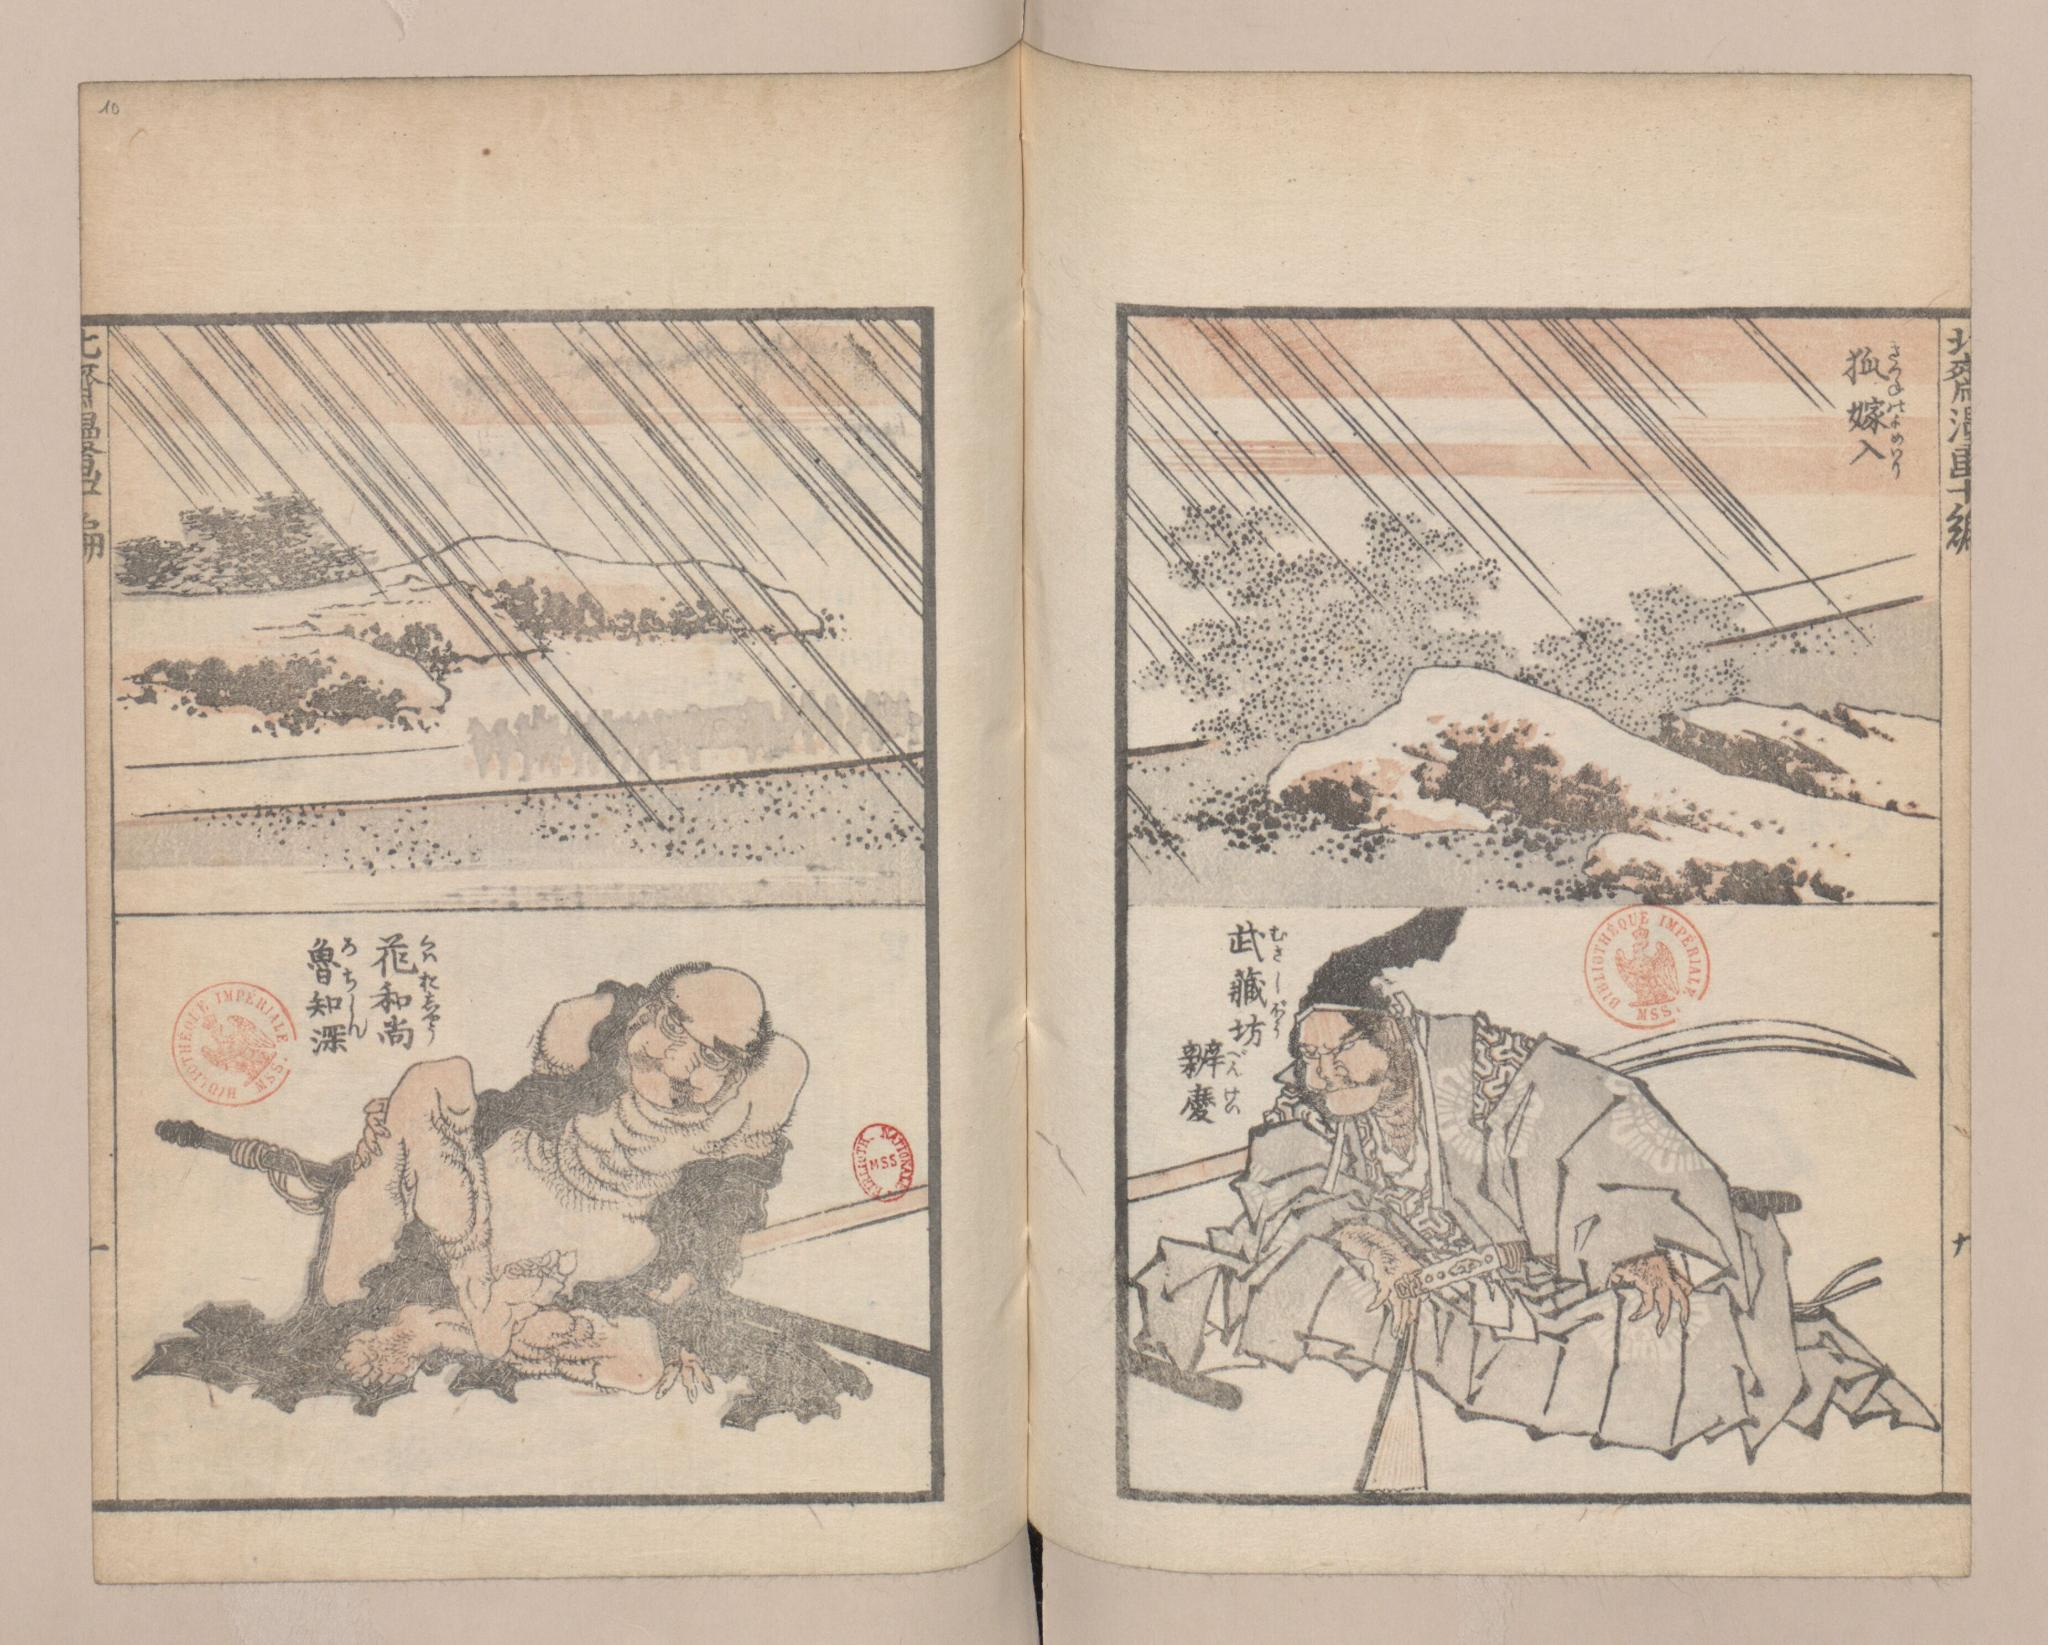MainZone-Character: (1840, 339, 1909, 398), (299, 1009, 373, 1061), (1173, 1083, 1251, 1131), (297, 930, 359, 990), (302, 963, 361, 1022), (1230, 999, 1294, 1051), (371, 928, 440, 975), (1173, 1039, 1247, 1079), (1848, 431, 1909, 480), (1224, 916, 1288, 962), (373, 1012, 443, 1052), (1224, 962, 1291, 1004), (369, 977, 447, 1012), (1845, 396, 1909, 430)
MainZone-Ruby: (1883, 341, 1905, 394), (418, 975, 441, 1012), (1224, 1046, 1247, 1081), (1220, 1086, 1246, 1118), (1266, 1002, 1288, 1036), (342, 967, 359, 1009), (1269, 923, 1288, 960), (1883, 399, 1905, 430), (1889, 433, 1904, 477), (420, 1014, 440, 1044), (418, 933, 438, 963), (346, 1017, 371, 1041), (1271, 963, 1286, 994), (341, 935, 358, 958)
